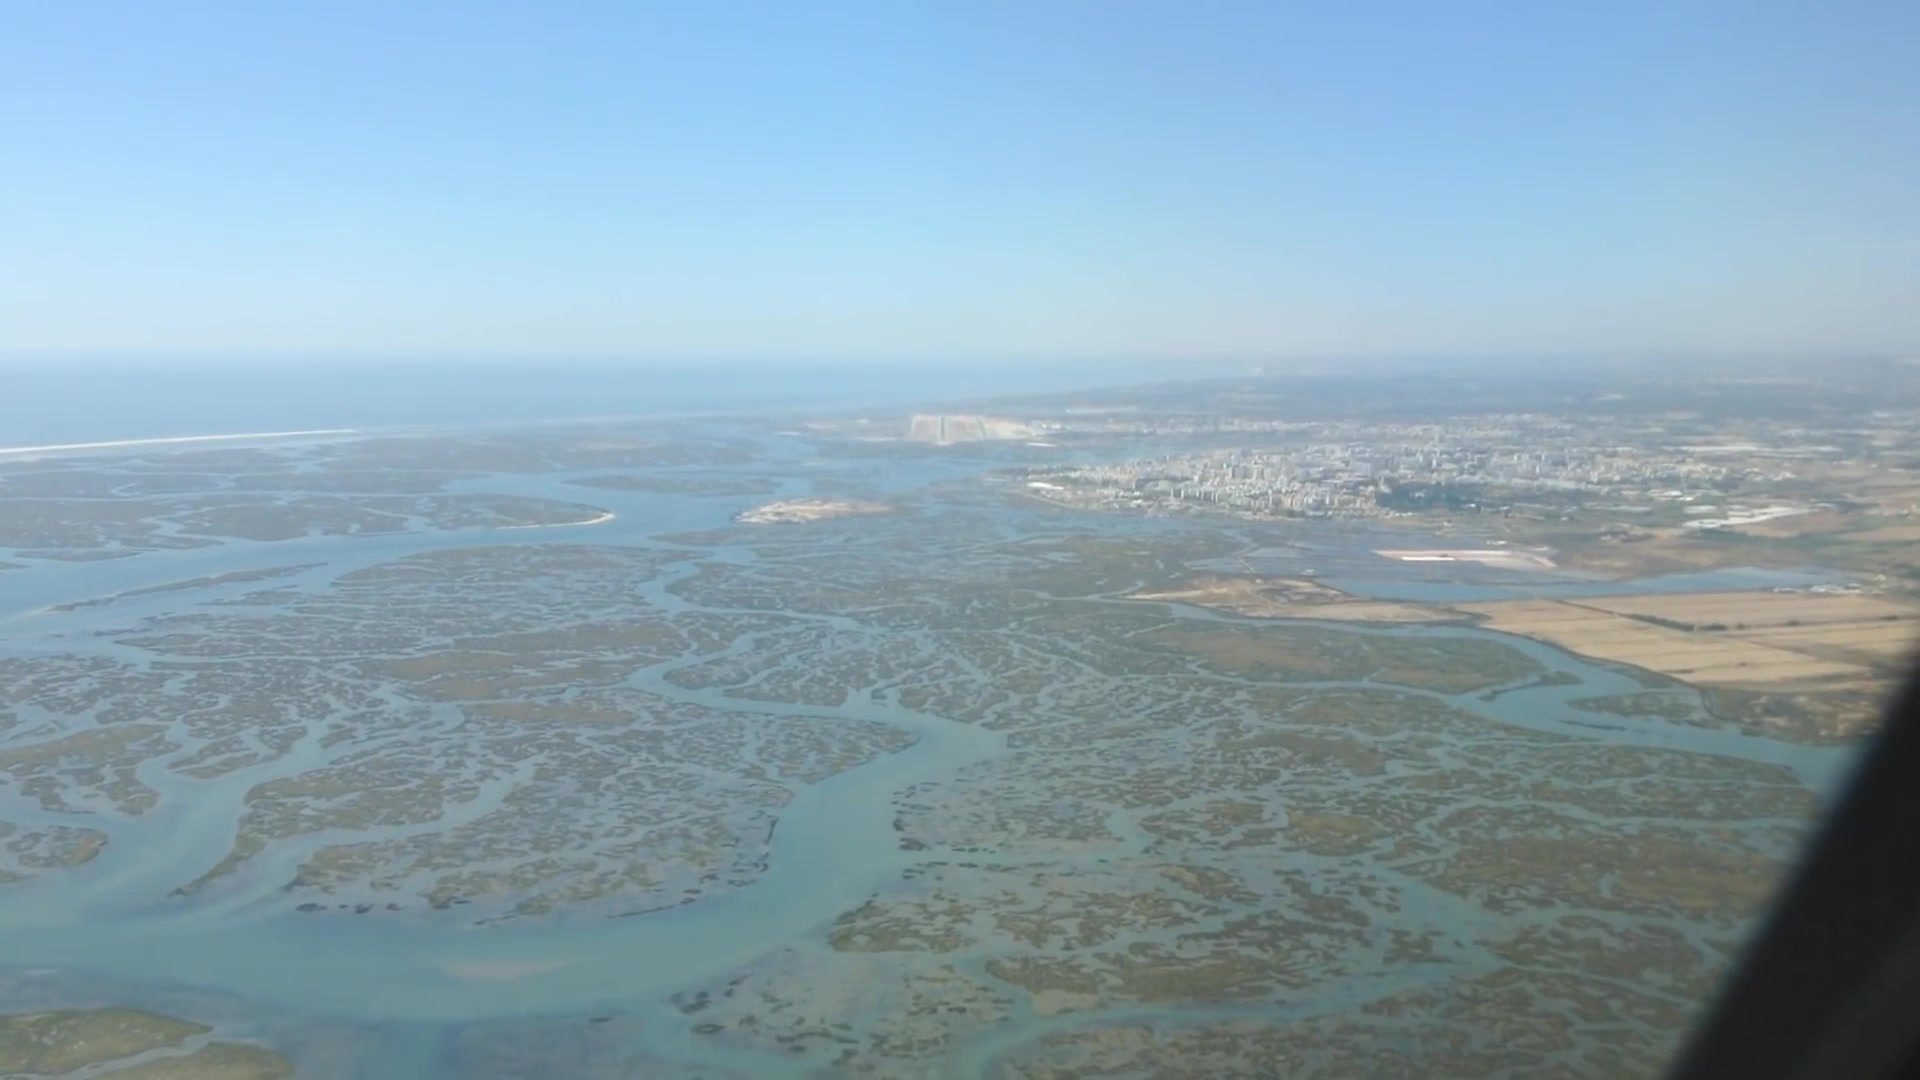runway: (971, 415, 996, 442), (935, 417, 951, 448)
